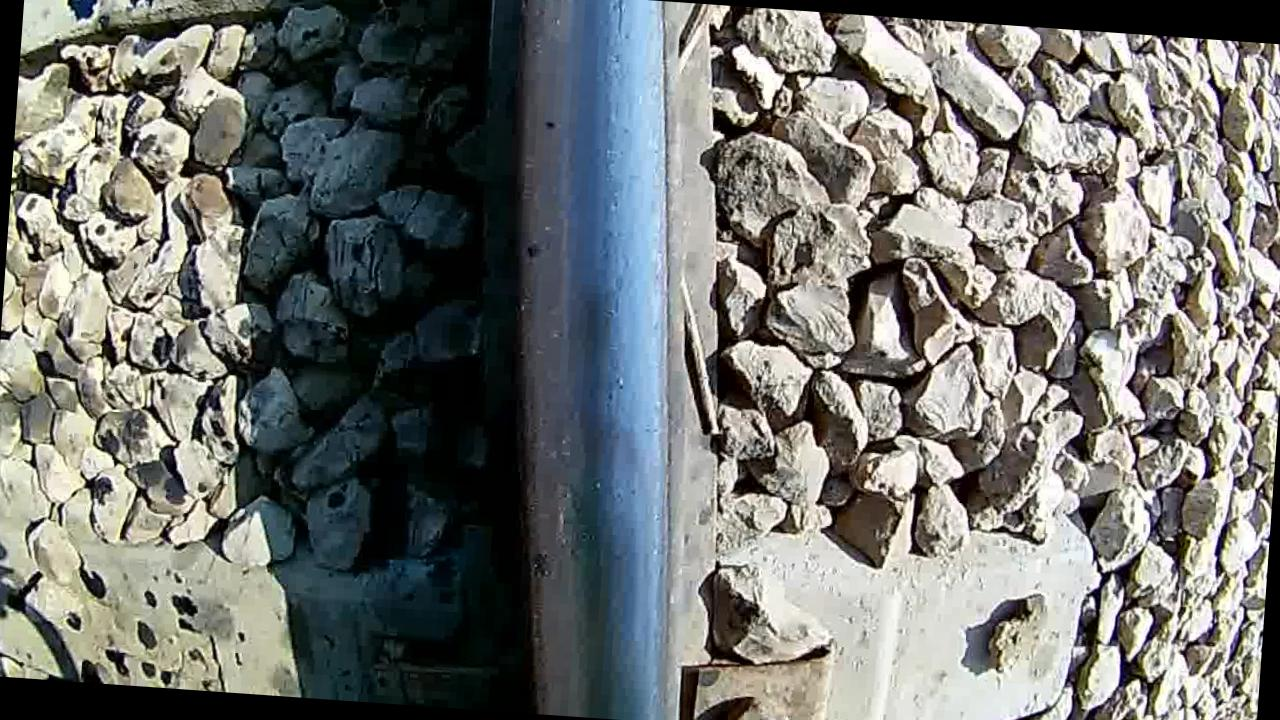crack: (469, 0, 668, 716)
